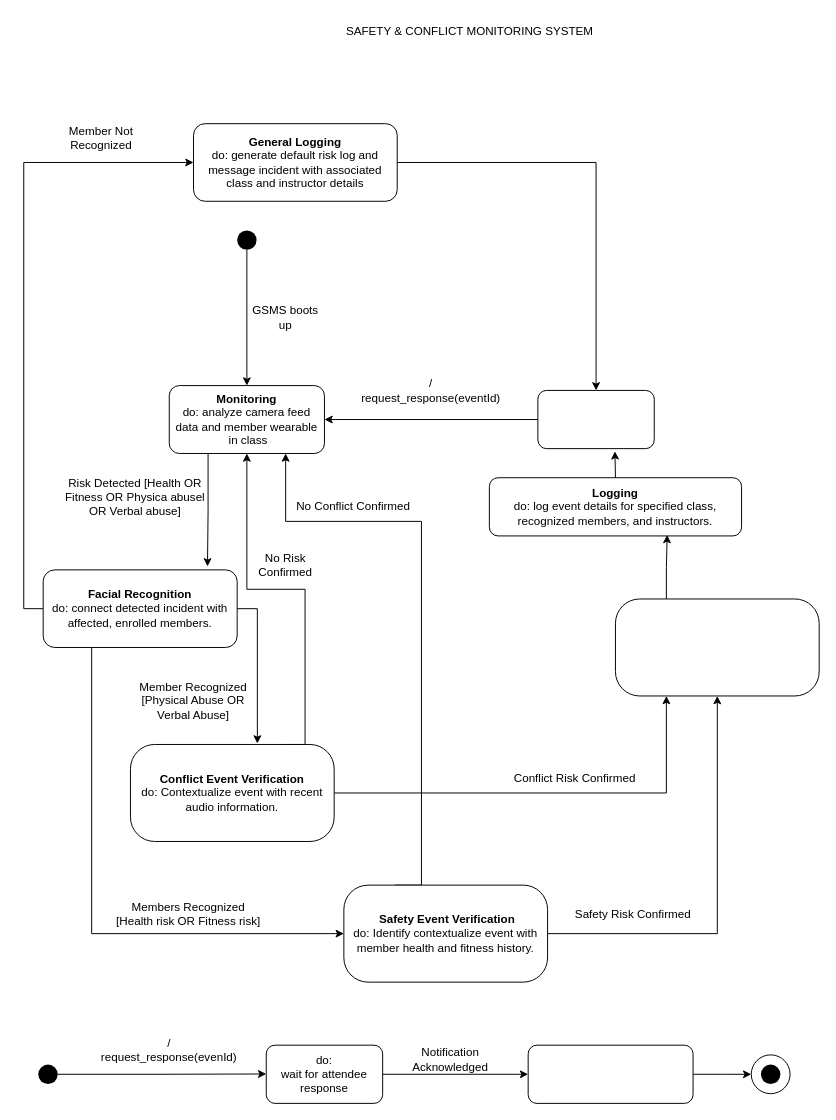
The diagram is 836 pixels wide and 1120 high, and some of its shapes have lost their labels. Each missing label, with the centre of its shape:
"Determine Severity do: classify events as Alert or Warning type" goes at point 716,647.
"Notifying do: Notify instructor and affected members in class" goes at point 595,419.
"Update Event Log do: update log of safety event as resolved" goes at point 610,1073.
